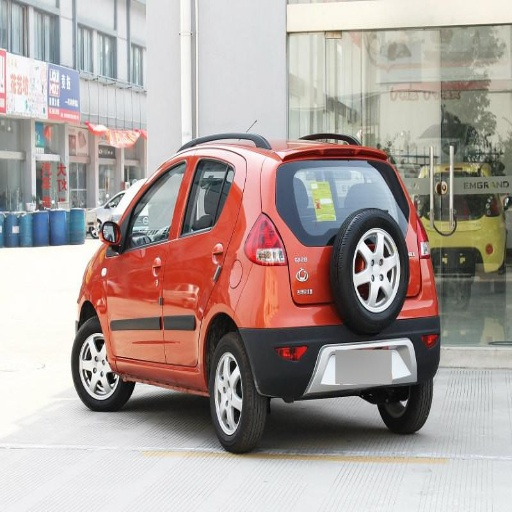back_bumper: (247, 302, 438, 396)
back_glass: (289, 160, 359, 204)
back_left_door: (166, 150, 236, 370)
trunk: (288, 207, 348, 306)
